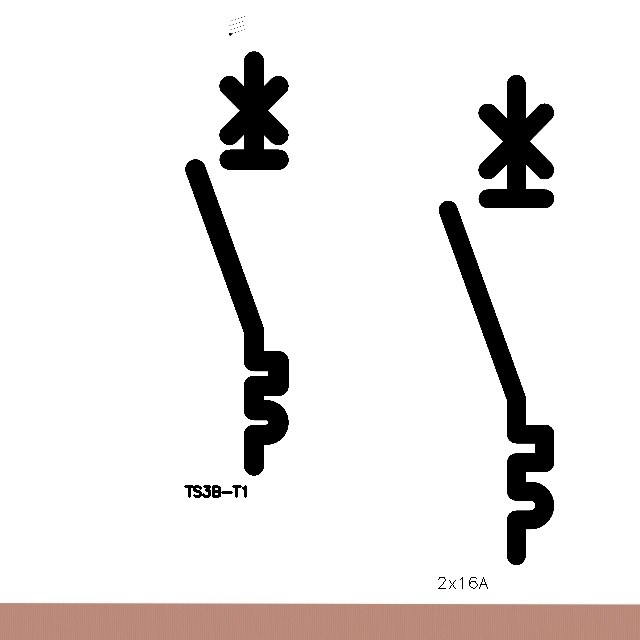interruptor_termomagnetico: (436, 72, 557, 568), (185, 51, 289, 476)
